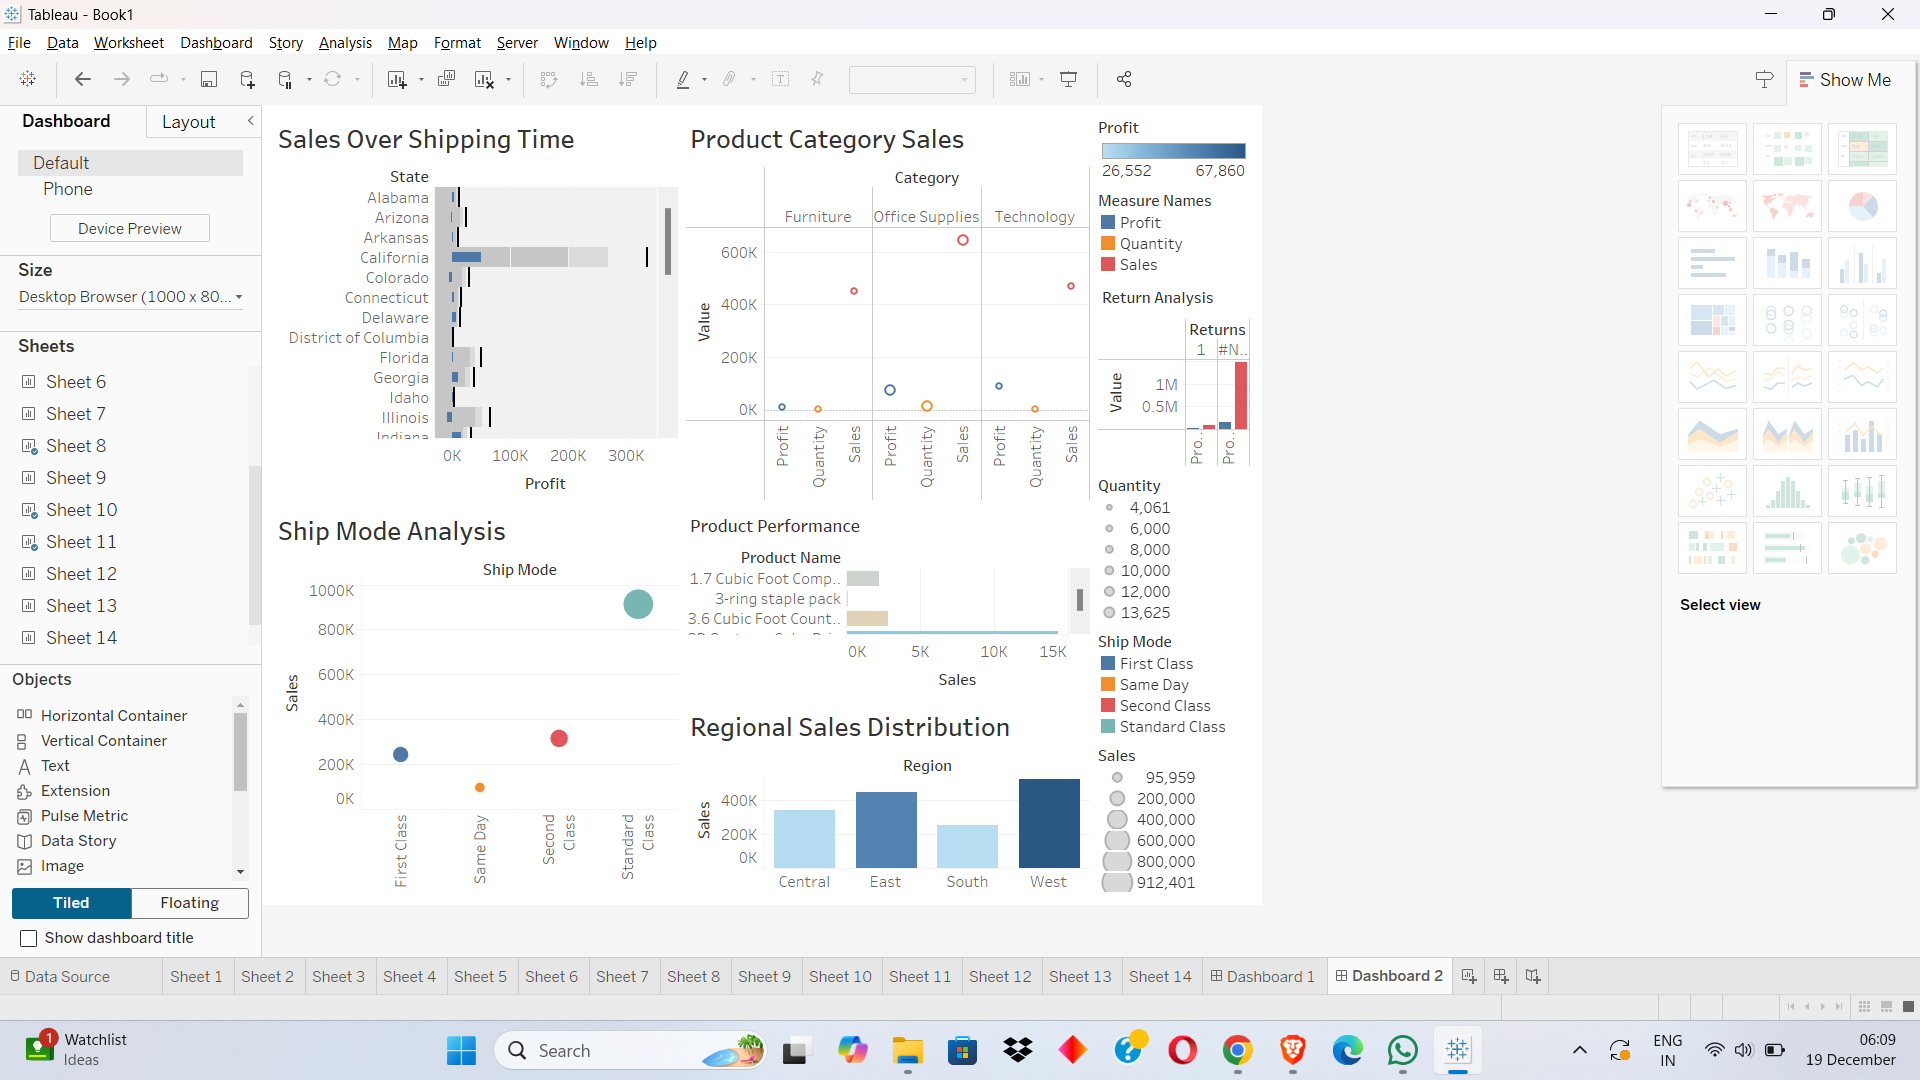

This screenshot's page, from the dashboard's own definition file:
{"tool":"tableau","page":{"name":"Dashboard 1","canvas":[1000,800],"ordinal":0},"visuals":[{"type":"worksheet","title":"Sheet 1","mark":"Bar","rows":["Order Date"],"cols":["Sales"],"box":[8,8,412,392]},{"type":"worksheet","title":"Sheet 9","mark":"Automatic","rows":["Profit","Sales"],"cols":["Segment"],"box":[420,8,412,392]},{"type":"worksheet","title":"Sheet 7","mark":"Automatic","rows":["Category"],"cols":["Calculation_7881326205693952"],"box":[832,8,160,205]},{"type":"legend","title":"Sheet 9","param":"[federated.0pcfocp0e5e8yf1237obi09fcwv9].[none:Segment:nk]","box":[832,213,160,93]},{"type":"worksheet","title":"Sheet 6","mark":"Automatic","cols":["Payment Mode"],"box":[832,306,160,249]},{"type":"worksheet","title":"Sheet 12","mark":"Automatic","rows":["Profit","Sales"],"cols":["Order Date"],"box":[8,400,412,392]},{"type":"worksheet","title":"Sheet 2","mark":"Automatic","rows":["Profit"],"cols":["Order Date"],"box":[420,400,412,392]},{"type":"legend","title":"Sheet 6","param":"[federated.0pcfocp0e5e8yf1237obi09fcwv9].[:Measure Names]","box":[832,555,160,72]},{"type":"legend","title":"Sheet 7","param":"[federated.0pcfocp0e5e8yf1237obi09fcwv9].[none:Returns:nk]","box":[832,627,160,72]},{"type":"legend","title":"Sheet 12","param":"[federated.0pcfocp0e5e8yf1237obi09fcwv9].[none:Category:nk]","box":[832,699,160,93]}]}

Visuals, with their boxes on the page's 1000x800 design canvas (x1, y1, x2, y2). These are canvas units, not pixel positions in the 1920x1080 screenshot, which may show the page scaled, cropped or inside an application window:
"Sheet 1" worksheet (Bar marks): box(8, 8, 420, 400)
"Sheet 9" worksheet: box(420, 8, 832, 400)
"Sheet 7" worksheet: box(832, 8, 992, 213)
"Sheet 9" legend: box(832, 213, 992, 306)
"Sheet 6" worksheet: box(832, 306, 992, 555)
"Sheet 12" worksheet: box(8, 400, 420, 792)
"Sheet 2" worksheet: box(420, 400, 832, 792)
"Sheet 6" legend: box(832, 555, 992, 627)
"Sheet 7" legend: box(832, 627, 992, 699)
"Sheet 12" legend: box(832, 699, 992, 792)
